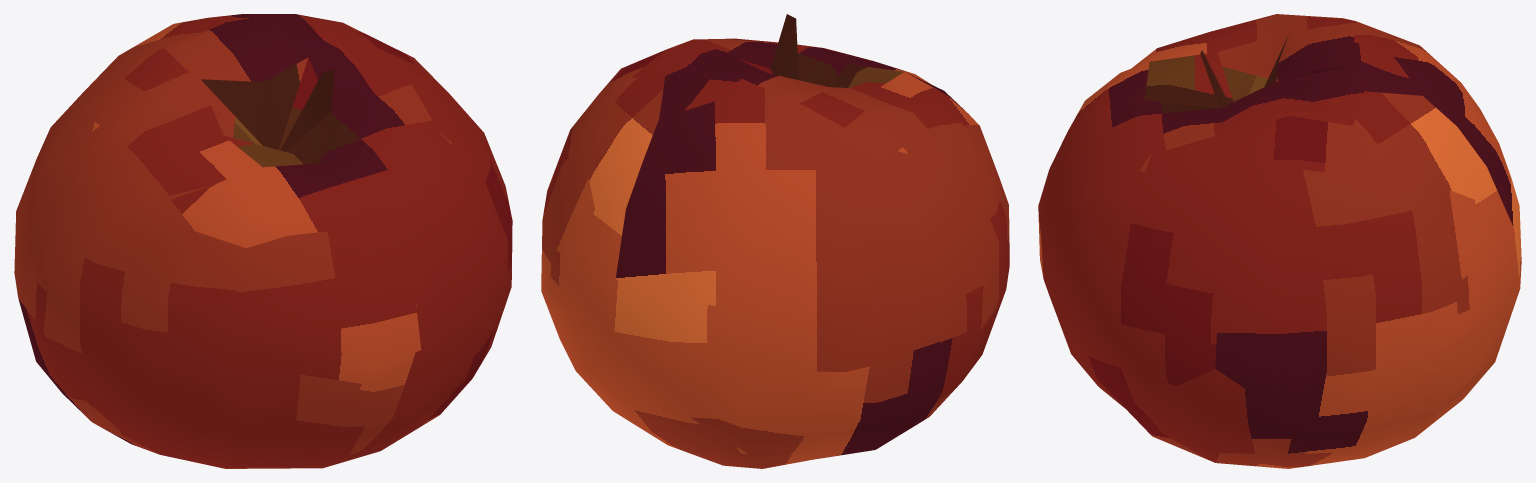
Rendered from food_apple_01.glb.
The picture shows the model from 3 angles, left to right: view 1: azimuth 30°, elevation 25°; view 2: azimuth 150°, elevation 25°; view 3: azimuth 270°, elevation 25°; orthographic projection. The views are drawn at different scales.
Parts seen in each view (by area): view 1: mesh; view 2: mesh; view 3: mesh.
Part boxes in pixels (box(x1,y1,x2,y2)): mesh: box(14, 14, 512, 468); mesh: box(541, 14, 1009, 468); mesh: box(1038, 14, 1521, 468).
Bounding box in the file's own units: 0.099 × 0.0854 × 0.0974.
1 material, 1 textured.
